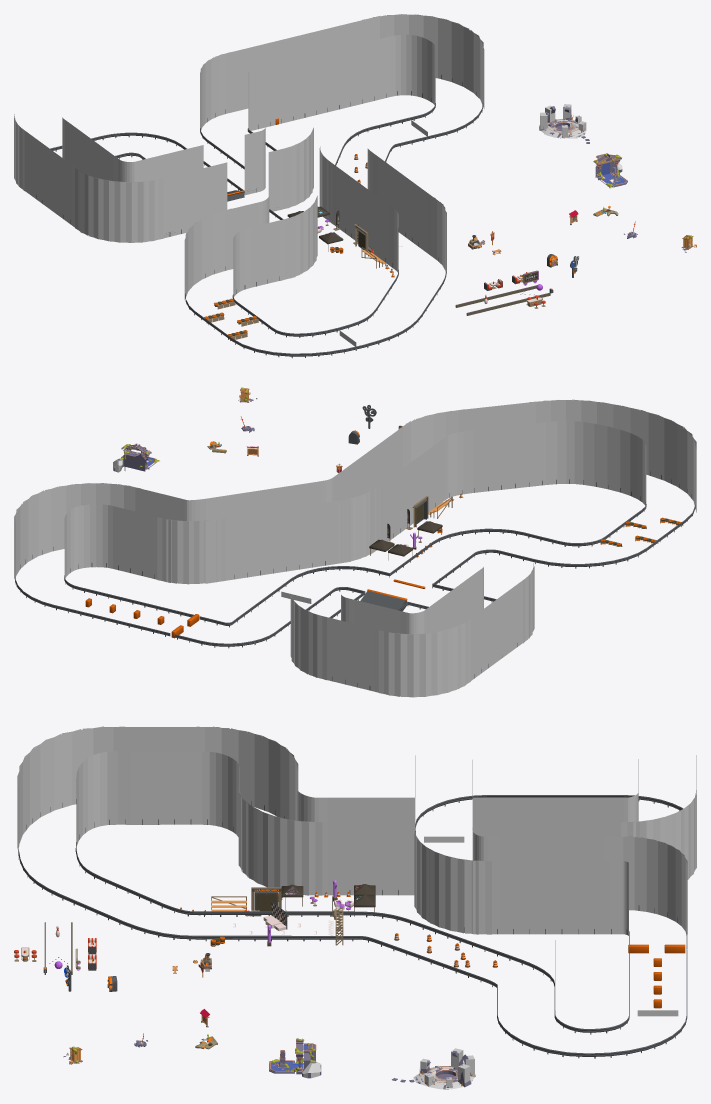
The model's file is areas.glb.
3 renders of one model, top to bottom at view 1: azimuth 30°, elevation 25°; view 2: azimuth 150°, elevation 25°; view 3: azimuth 270°, elevation 25°, orthographic. The views are drawn at different scales.
Parts seen in each view (by area): view 1: trimesh, refRailsPhysicalFixed, Cube.089, refBumpersPhysicalKinematicPositionBased, blocks; view 2: trimesh, refRailsPhysicalFixed, Cube.089, jump, Cube.088; view 3: trimesh, refRailsPhysicalFixed, Cube.088, Cube.089, Cube.173.
Part boxes in pixels (left/top/right/bottom): trimesh: left=14, top=14, right=484, bottom=299; refRailsPhysicalFixed: left=36, top=75, right=483, bottom=358; Cube.089: left=593, top=153, right=627, bottom=188; refBumpersPhysicalKinematicPositionBased: left=455, top=285, right=550, bottom=315; blocks: left=204, top=298, right=258, bottom=340; trimesh: left=14, top=399, right=696, bottom=697; refRailsPhysicalFixed: left=15, top=471, right=695, bottom=690; Cube.089: left=113, top=443, right=159, bottom=471; jump: left=360, top=579, right=425, bottom=611; Cube.088: left=370, top=496, right=452, bottom=560; trimesh: left=17, top=726, right=696, bottom=1009; refRailsPhysicalFixed: left=18, top=795, right=687, bottom=1058; Cube.088: left=210, top=887, right=374, bottom=946; Cube.089: left=269, top=1038, right=321, bottom=1078; Cube.173: left=392, top=1051, right=475, bottom=1088.
Bounding box in the file's own units: 169 × 22.1 × 169.
17 materials, 9 textured.
